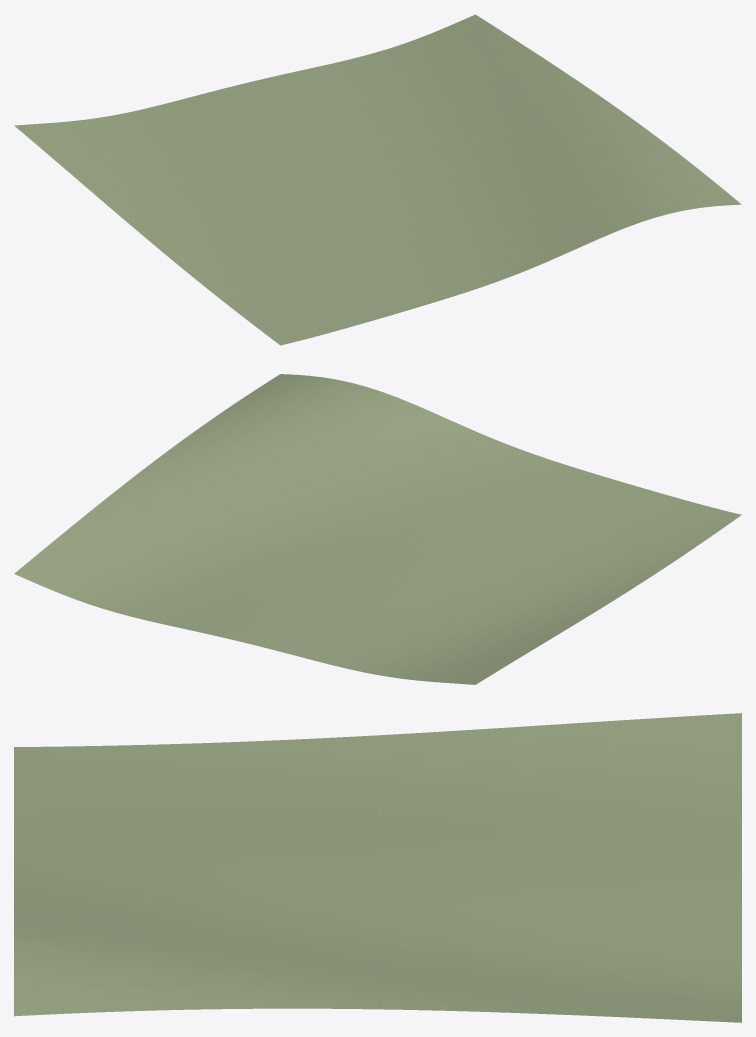
File: desert-5-6.glb
3 views of the same model, one above another, from view 1: azimuth 30°, elevation 25°; view 2: azimuth 150°, elevation 25°; view 3: azimuth 270°, elevation 25° (orthographic). The views are drawn at different scales.
Parts seen in each view (by area): view 1: desert-5-6; view 2: desert-5-6; view 3: desert-5-6.
Part boxes in pixels (left/top/right/bottom): desert-5-6: left=14, top=14, right=741, bottom=345; desert-5-6: left=14, top=374, right=741, bottom=684; desert-5-6: left=14, top=713, right=741, bottom=1022.
Size of the model in its own units: 512 by 39.07 by 512.
